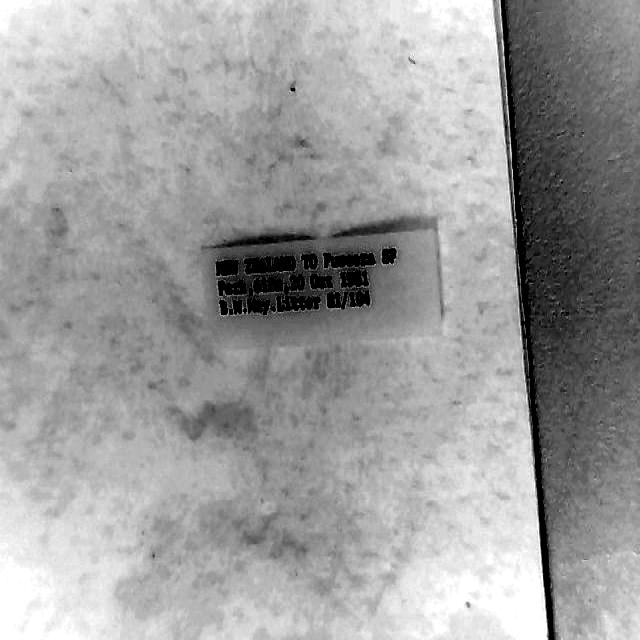typed_label: (204, 227, 441, 344)
